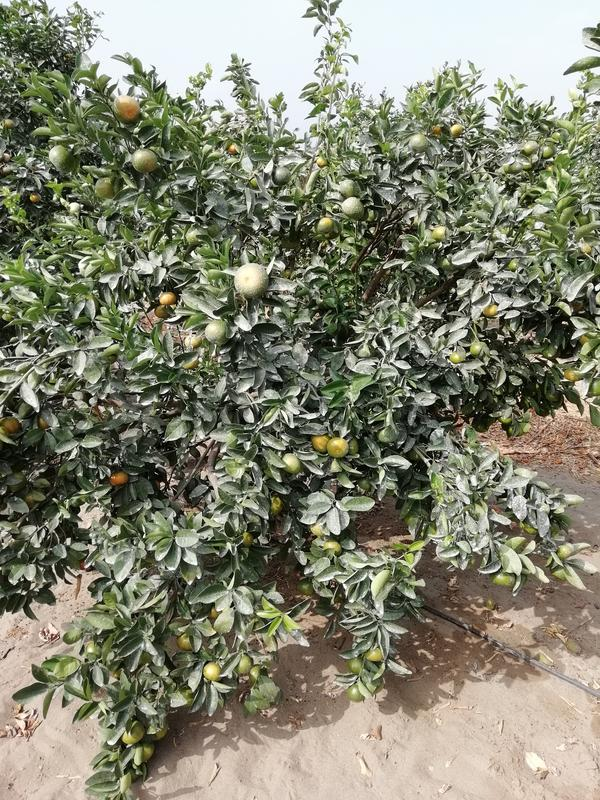mandarina naranja: (115, 97, 141, 123), (326, 437, 349, 458), (109, 473, 129, 486), (159, 292, 175, 305)
mandarina verde: (235, 263, 268, 298), (49, 145, 75, 174), (205, 320, 229, 345), (121, 721, 145, 745), (132, 149, 157, 172), (341, 197, 364, 217), (491, 571, 516, 587), (234, 654, 252, 675), (272, 167, 291, 185), (283, 454, 300, 474), (340, 180, 360, 197), (95, 179, 113, 197), (203, 663, 222, 680), (409, 134, 428, 151), (316, 216, 334, 233), (348, 685, 365, 702), (365, 647, 383, 662), (470, 341, 486, 355), (523, 141, 538, 154), (540, 146, 555, 158)
